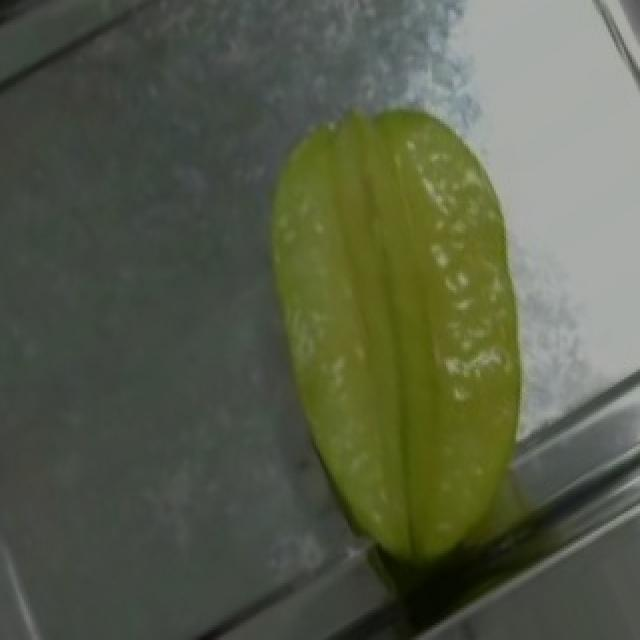fruit: (226, 74, 610, 556)
